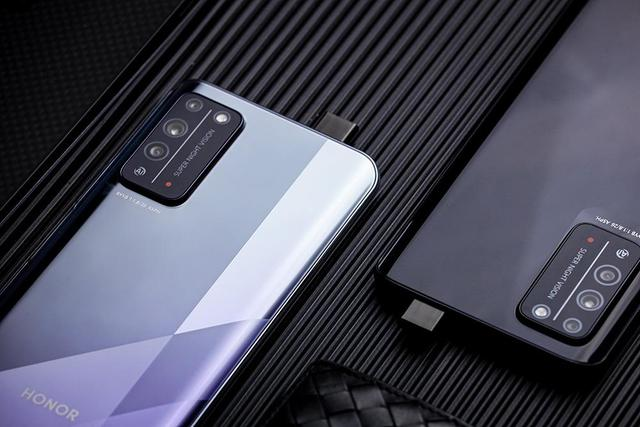phone: (14, 81, 375, 427), (394, 1, 640, 364)
